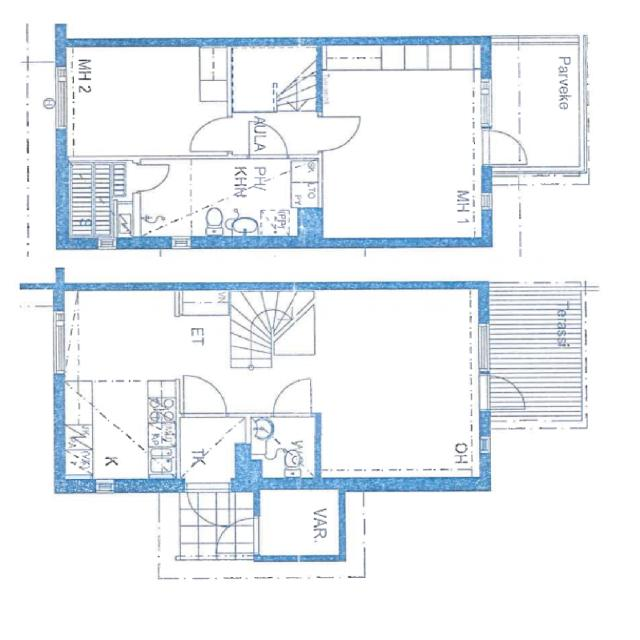door: (184, 111, 242, 158), (180, 371, 231, 419), (482, 125, 534, 167), (268, 374, 316, 418), (270, 317, 317, 361), (487, 371, 529, 417), (317, 113, 362, 151), (247, 121, 291, 159), (129, 158, 172, 194)
window: (48, 306, 69, 376), (52, 64, 70, 132), (474, 316, 494, 376), (477, 72, 498, 129), (93, 476, 121, 496), (230, 407, 274, 418)
zone: (317, 39, 488, 246), (310, 293, 480, 483), (59, 41, 232, 157), (64, 286, 239, 382), (133, 154, 297, 243), (58, 377, 168, 481), (257, 482, 344, 562), (225, 41, 317, 114), (65, 157, 133, 246), (177, 412, 247, 491), (244, 414, 318, 480), (292, 167, 322, 209)
